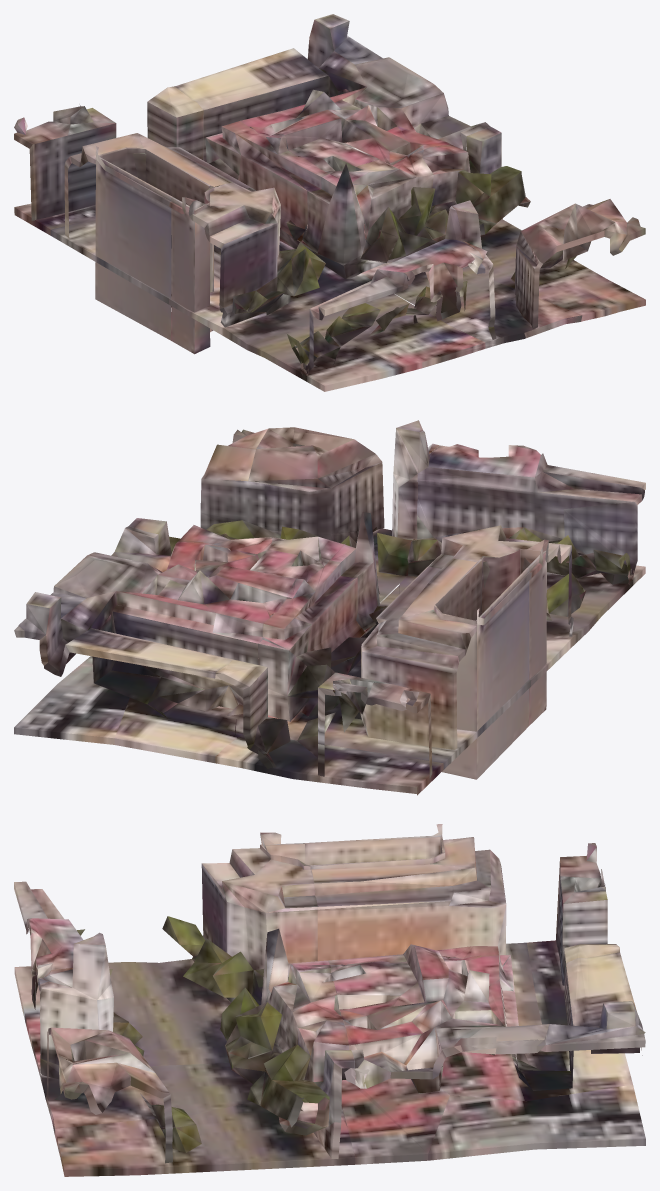
3 views of the same model, one above another, from view 1: azimuth 30°, elevation 25°; view 2: azimuth 150°, elevation 25°; view 3: azimuth 270°, elevation 25° (orthographic). The views are drawn at different scales.
Visible parts, largest first — view 1: Mesh_0; view 2: Mesh_0; view 3: Mesh_0.
Part boxes in pixels (bbox=[...]): Mesh_0: bbox=[14, 14, 645, 391]; Mesh_0: bbox=[14, 420, 645, 795]; Mesh_0: bbox=[14, 824, 645, 1176].
Size of the model in its own units: 133 by 50.15 by 165.
1 material, 1 textured.
